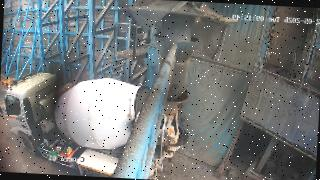cement_mixer_truck: (0, 73, 189, 180)
swing_chute: (151, 34, 199, 98)
